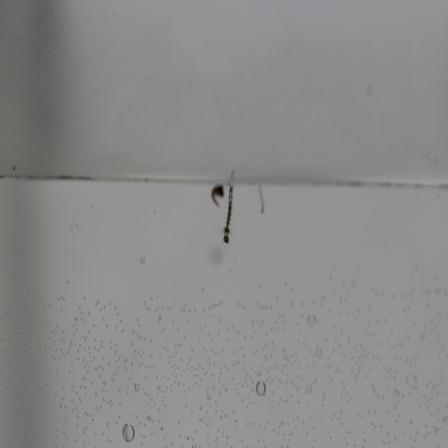Jentik-Nyamuk: (209, 180, 237, 246)
